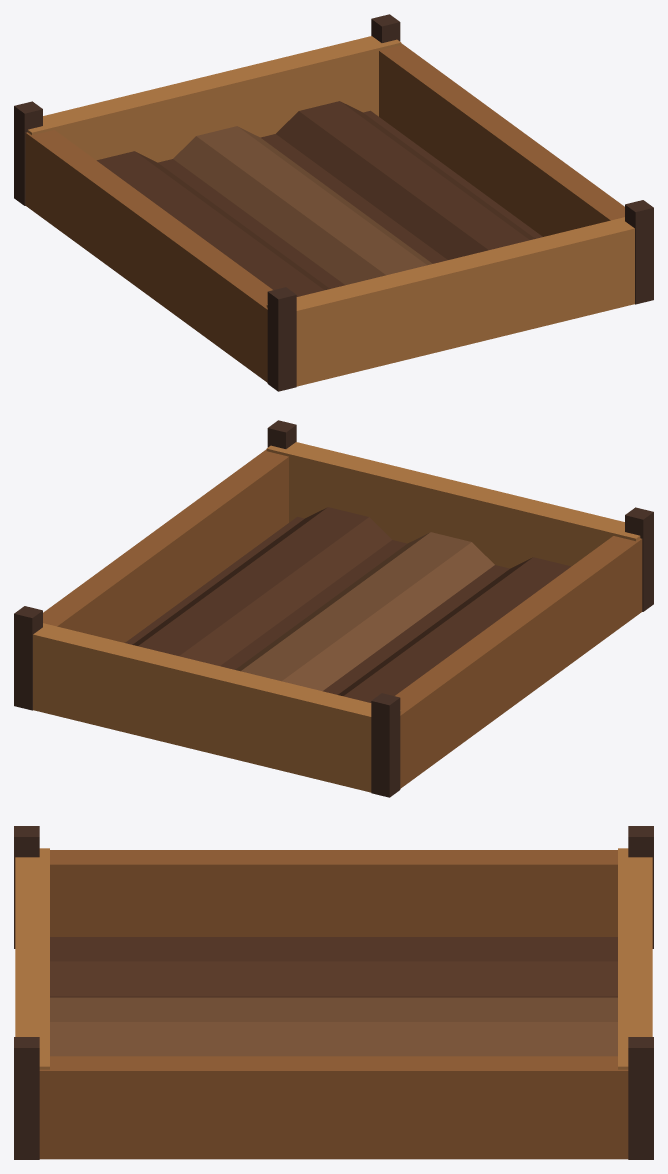
Rendered from 44_raised_garden_bed.fbx.
3 renders of one model, top to bottom at view 1: azimuth 30°, elevation 25°; view 2: azimuth 150°, elevation 25°; view 3: azimuth 270°, elevation 25°, orthographic. The views are drawn at different scales.
Parts seen in each view (by area): view 1: 44_raised_garden_bed; view 2: 44_raised_garden_bed; view 3: 44_raised_garden_bed.
Boxes of the visible parts, left/top/right/bottom form: 44_raised_garden_bed: left=14, top=14, right=653, bottom=391; 44_raised_garden_bed: left=14, top=420, right=653, bottom=797; 44_raised_garden_bed: left=14, top=826, right=653, bottom=1159.
Bounding box in the file's own units: 1.83 × 0.43 × 2.23.
Materials: 1 (1 with a texture image).
